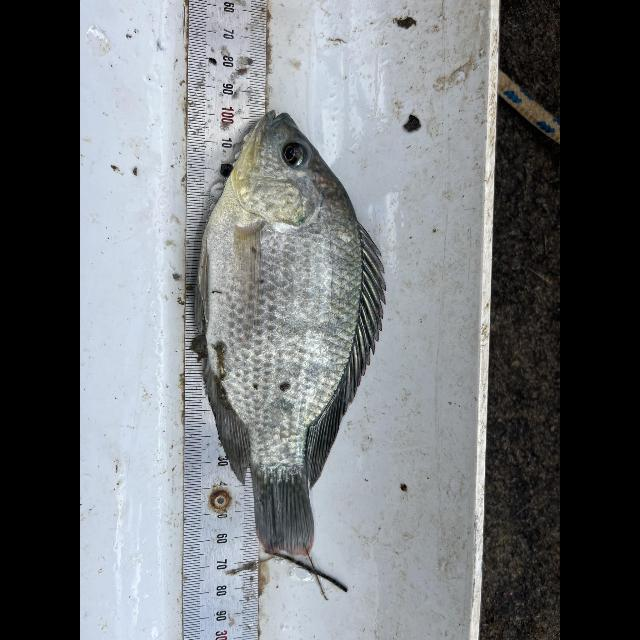Tilapia: (194, 109, 386, 555)
